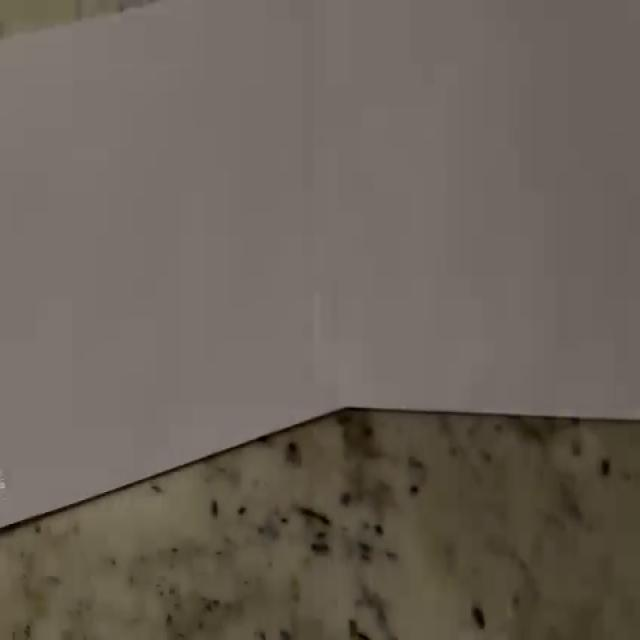road: (0, 0, 640, 531)
